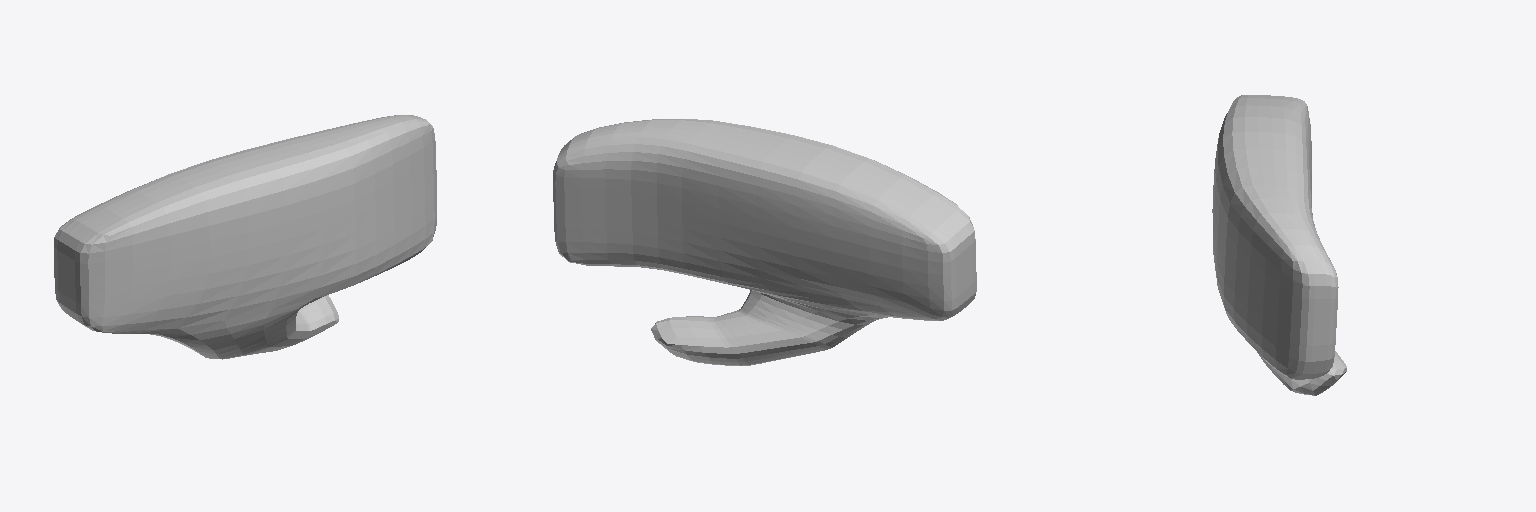
File: LeftHand.obj
3 views of the same model, side by side, from view 1: azimuth 30°, elevation 25°; view 2: azimuth 150°, elevation 25°; view 3: azimuth 270°, elevation 25° (orthographic).
Parts seen in each view (by area): view 1: hand_left.001; view 2: hand_left.001; view 3: hand_left.001.
Part boxes in pixels (bbox=[...]): hand_left.001: bbox=[54, 115, 436, 359]; hand_left.001: bbox=[553, 119, 976, 365]; hand_left.001: bbox=[1212, 95, 1346, 395].
Size of the model in its own units: 0.1348 by 0.0707 by 0.0408.